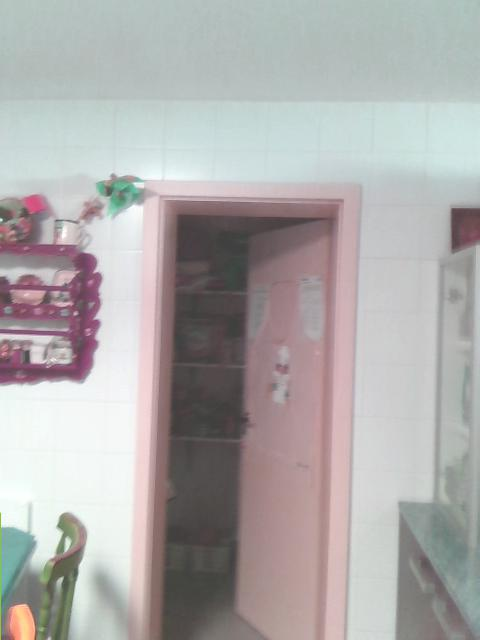semi_door: (132, 181, 363, 639)
